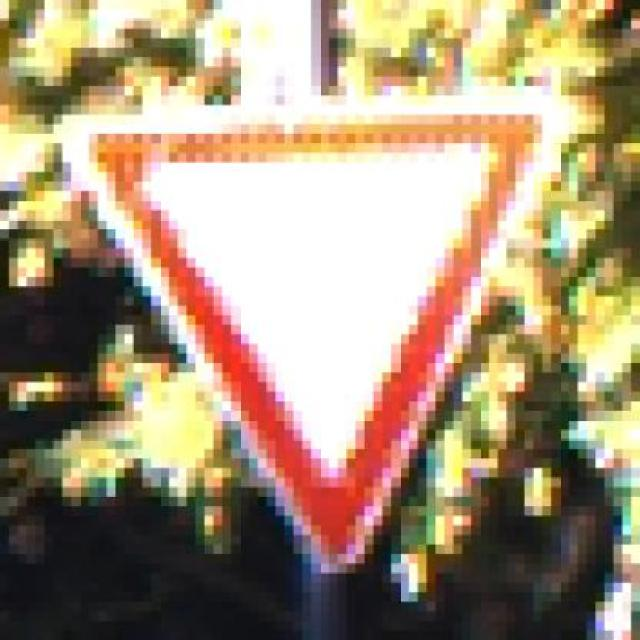Give Way: (53, 76, 596, 582)
